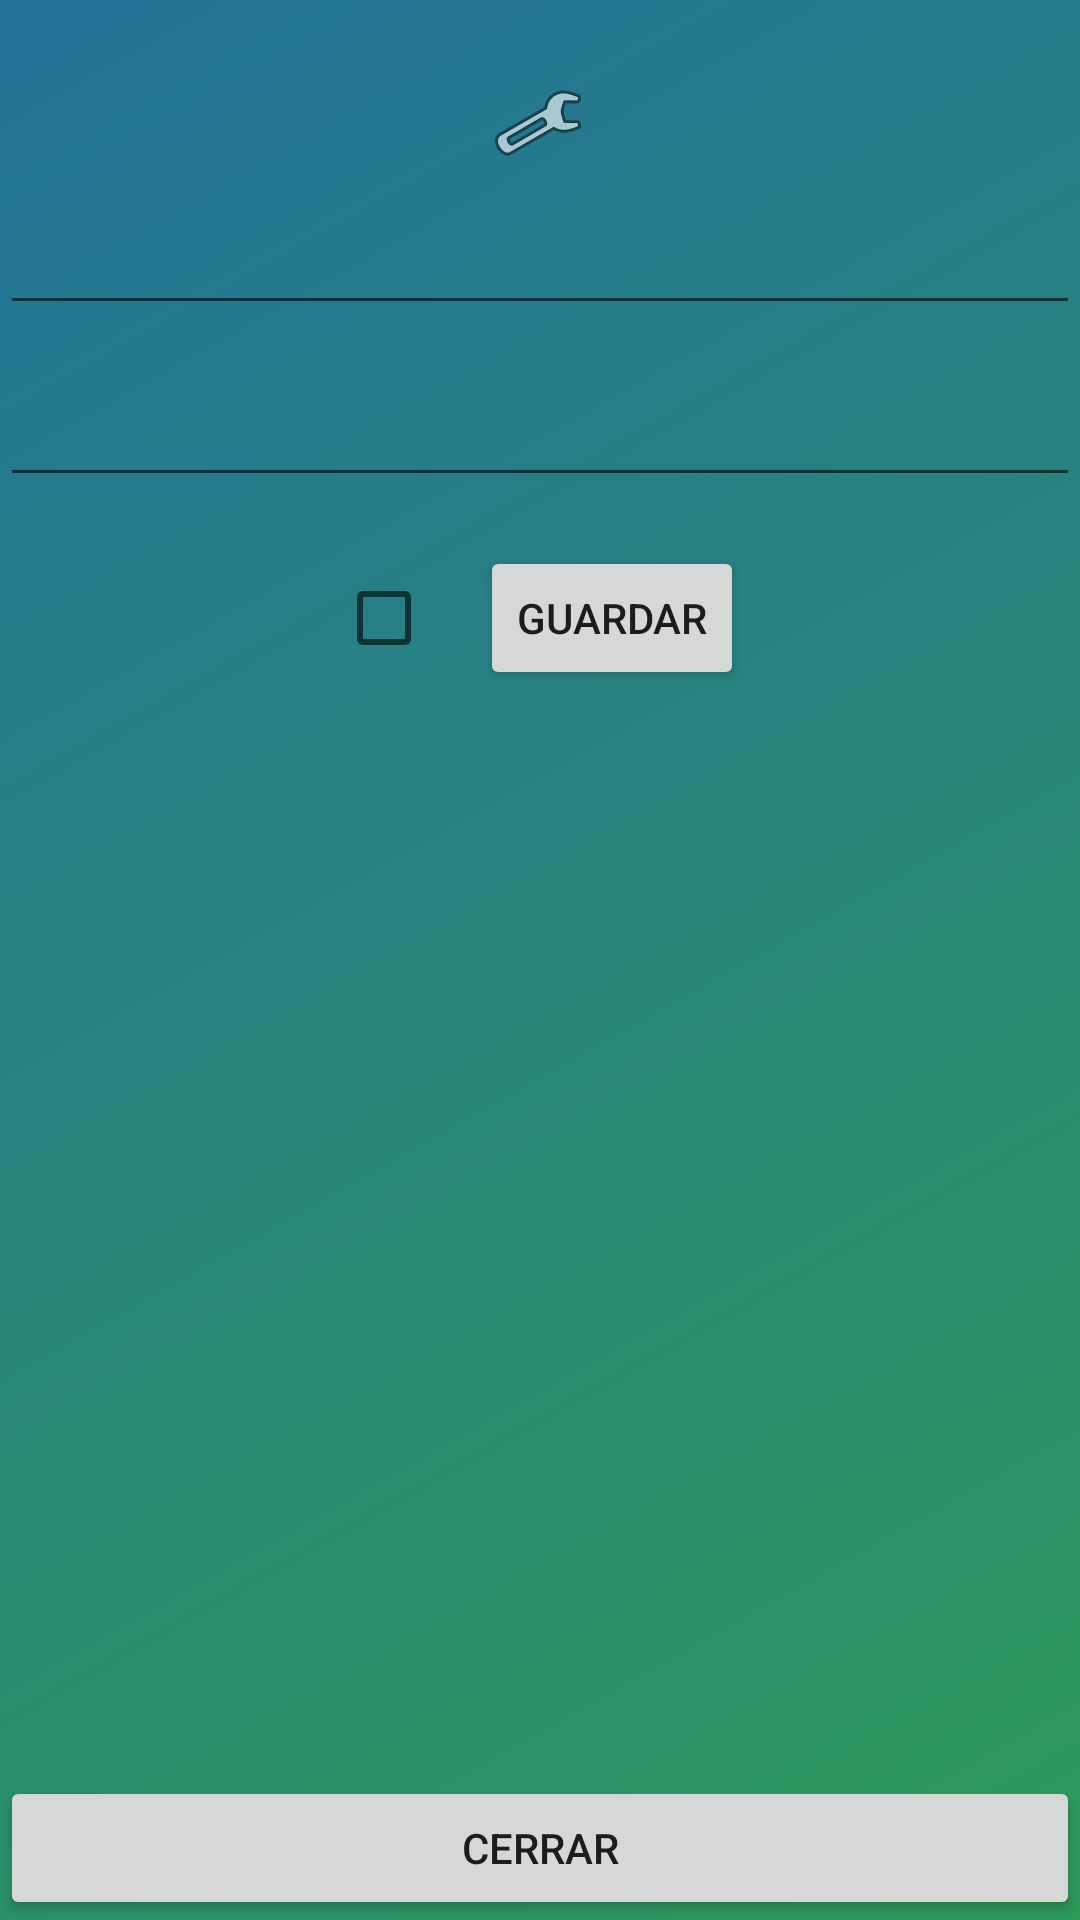

Screen size 1080x1920. Icon name, then its center in pixels as (x=x, y=y):
manage: (x=538, y=123)
